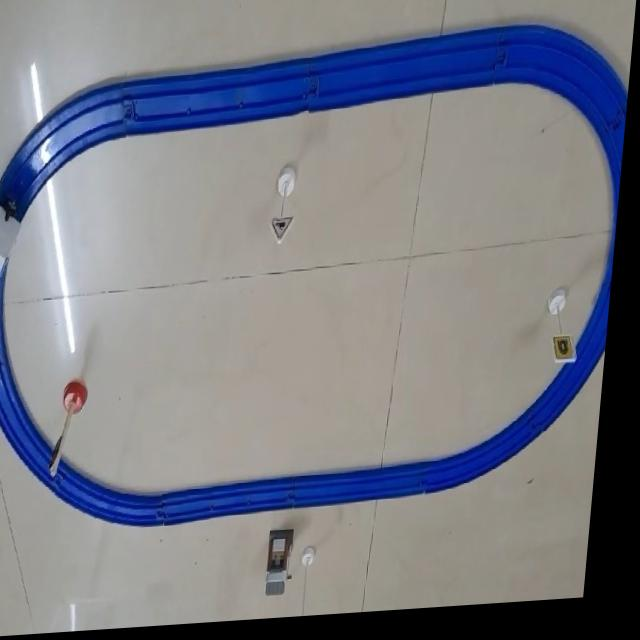bus: (0, 204, 26, 320)
